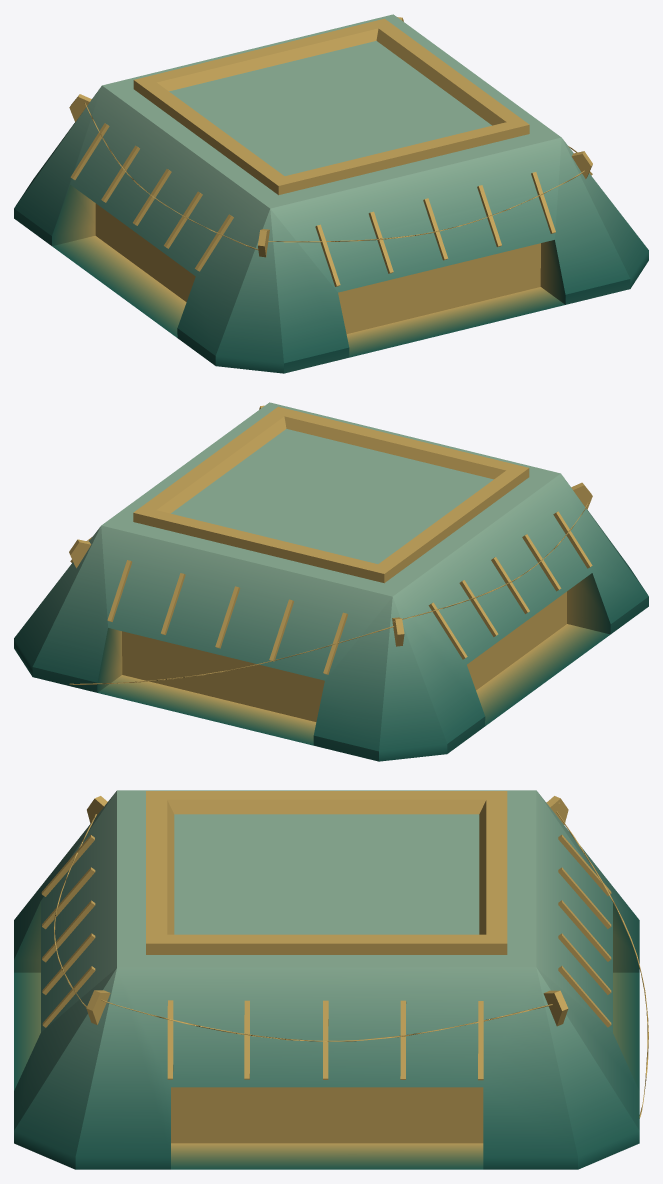
3 views of the same model, one above another, from view 1: azimuth 30°, elevation 25°; view 2: azimuth 150°, elevation 25°; view 3: azimuth 270°, elevation 25° (orthographic). The views are drawn at different scales.
Parts seen in each view (by area): view 1: nurbsToPoly5; view 2: nurbsToPoly5; view 3: nurbsToPoly5.
Boxes of the visible parts, x1=… form: nurbsToPoly5: x1=14, y1=14, x2=648, y2=373; nurbsToPoly5: x1=14, y1=402, x2=648, y2=761; nurbsToPoly5: x1=14, y1=790, x2=648, y2=1169.
Size of the model in its own units: 8.96 by 2.71 by 9.12.
Materials: 1 (1 with a texture image).
